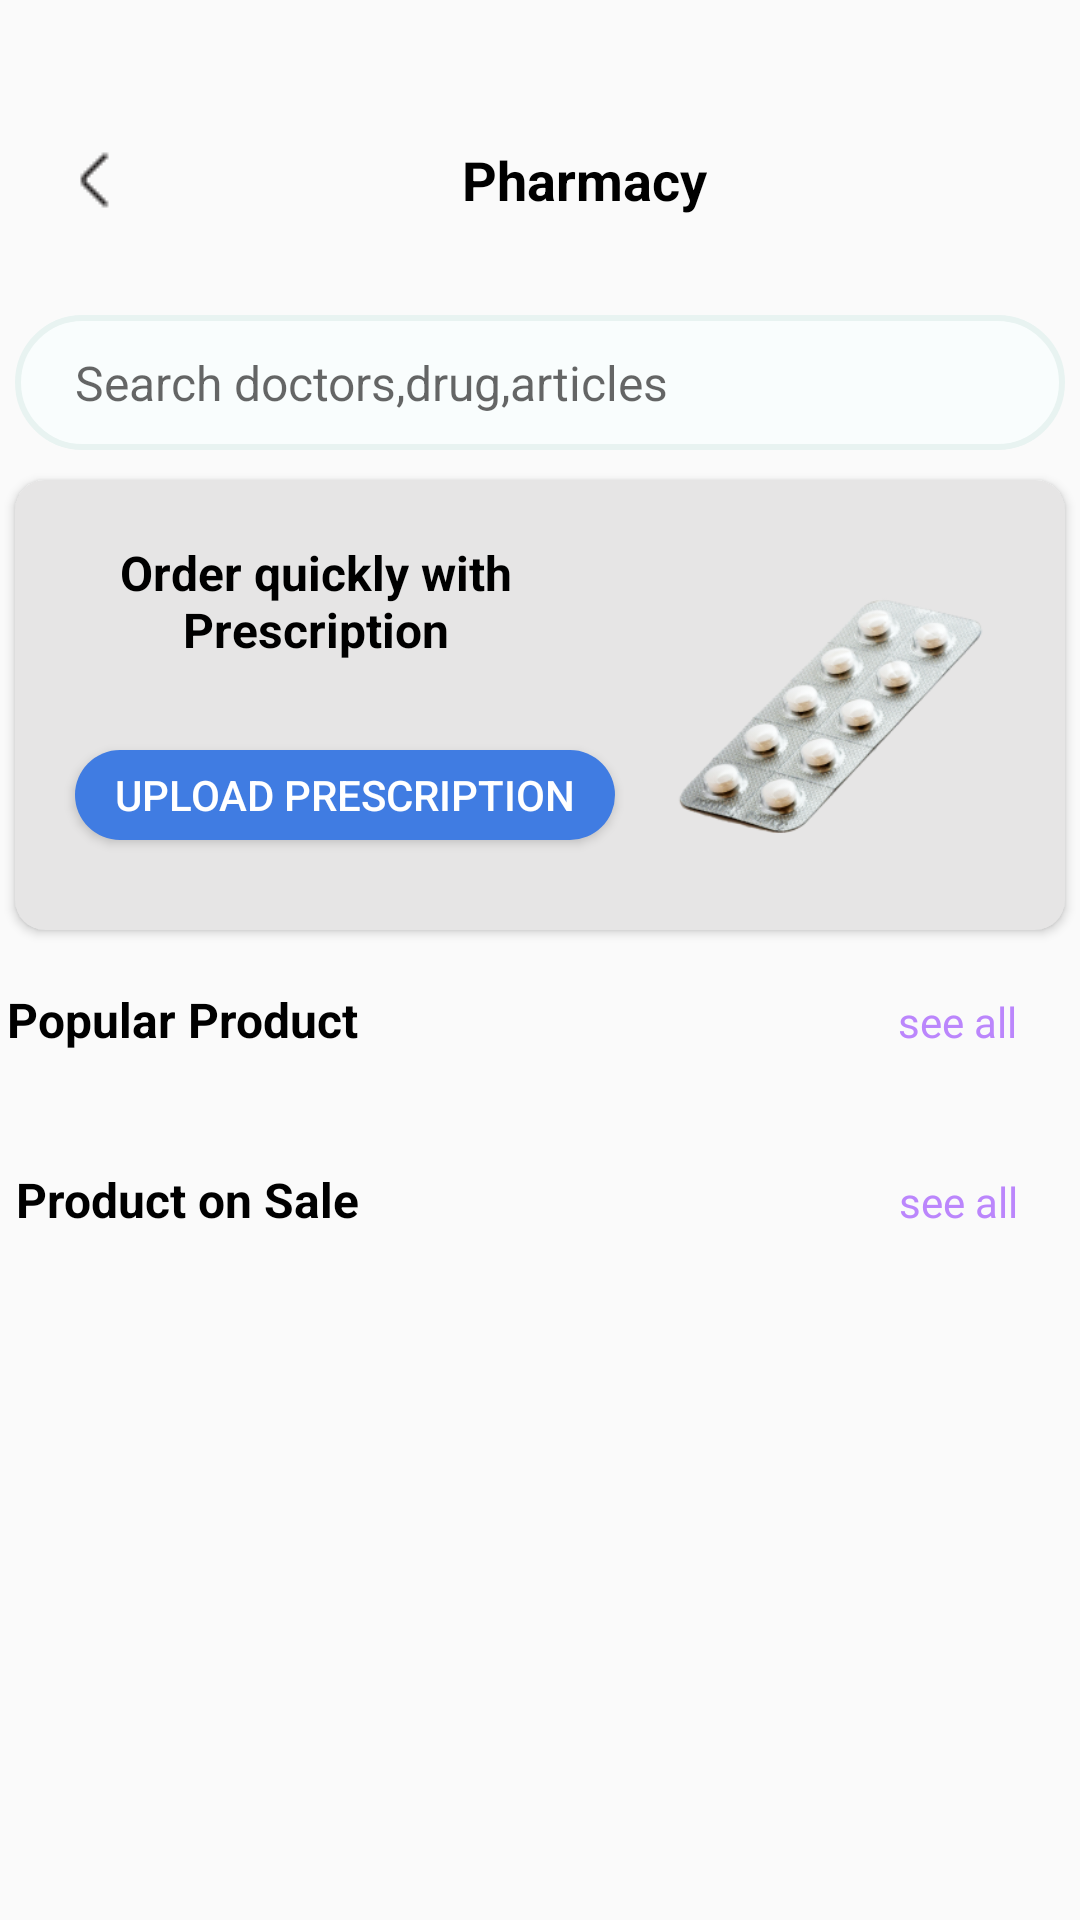

Icon click points for this 1080x1920 phone screenshot, format (x=x, y=y):
chevronleft: (x=94, y=180)
